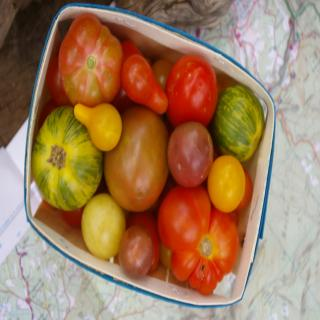tomato: (157, 185, 240, 295), (31, 109, 105, 211), (102, 105, 170, 214), (62, 14, 120, 105), (164, 55, 221, 130), (212, 86, 268, 162), (118, 56, 172, 116), (82, 194, 127, 261), (164, 124, 213, 184), (75, 100, 122, 152), (128, 208, 163, 271), (208, 152, 244, 211), (121, 225, 154, 275), (44, 54, 69, 109), (236, 169, 254, 216), (121, 41, 141, 68)
